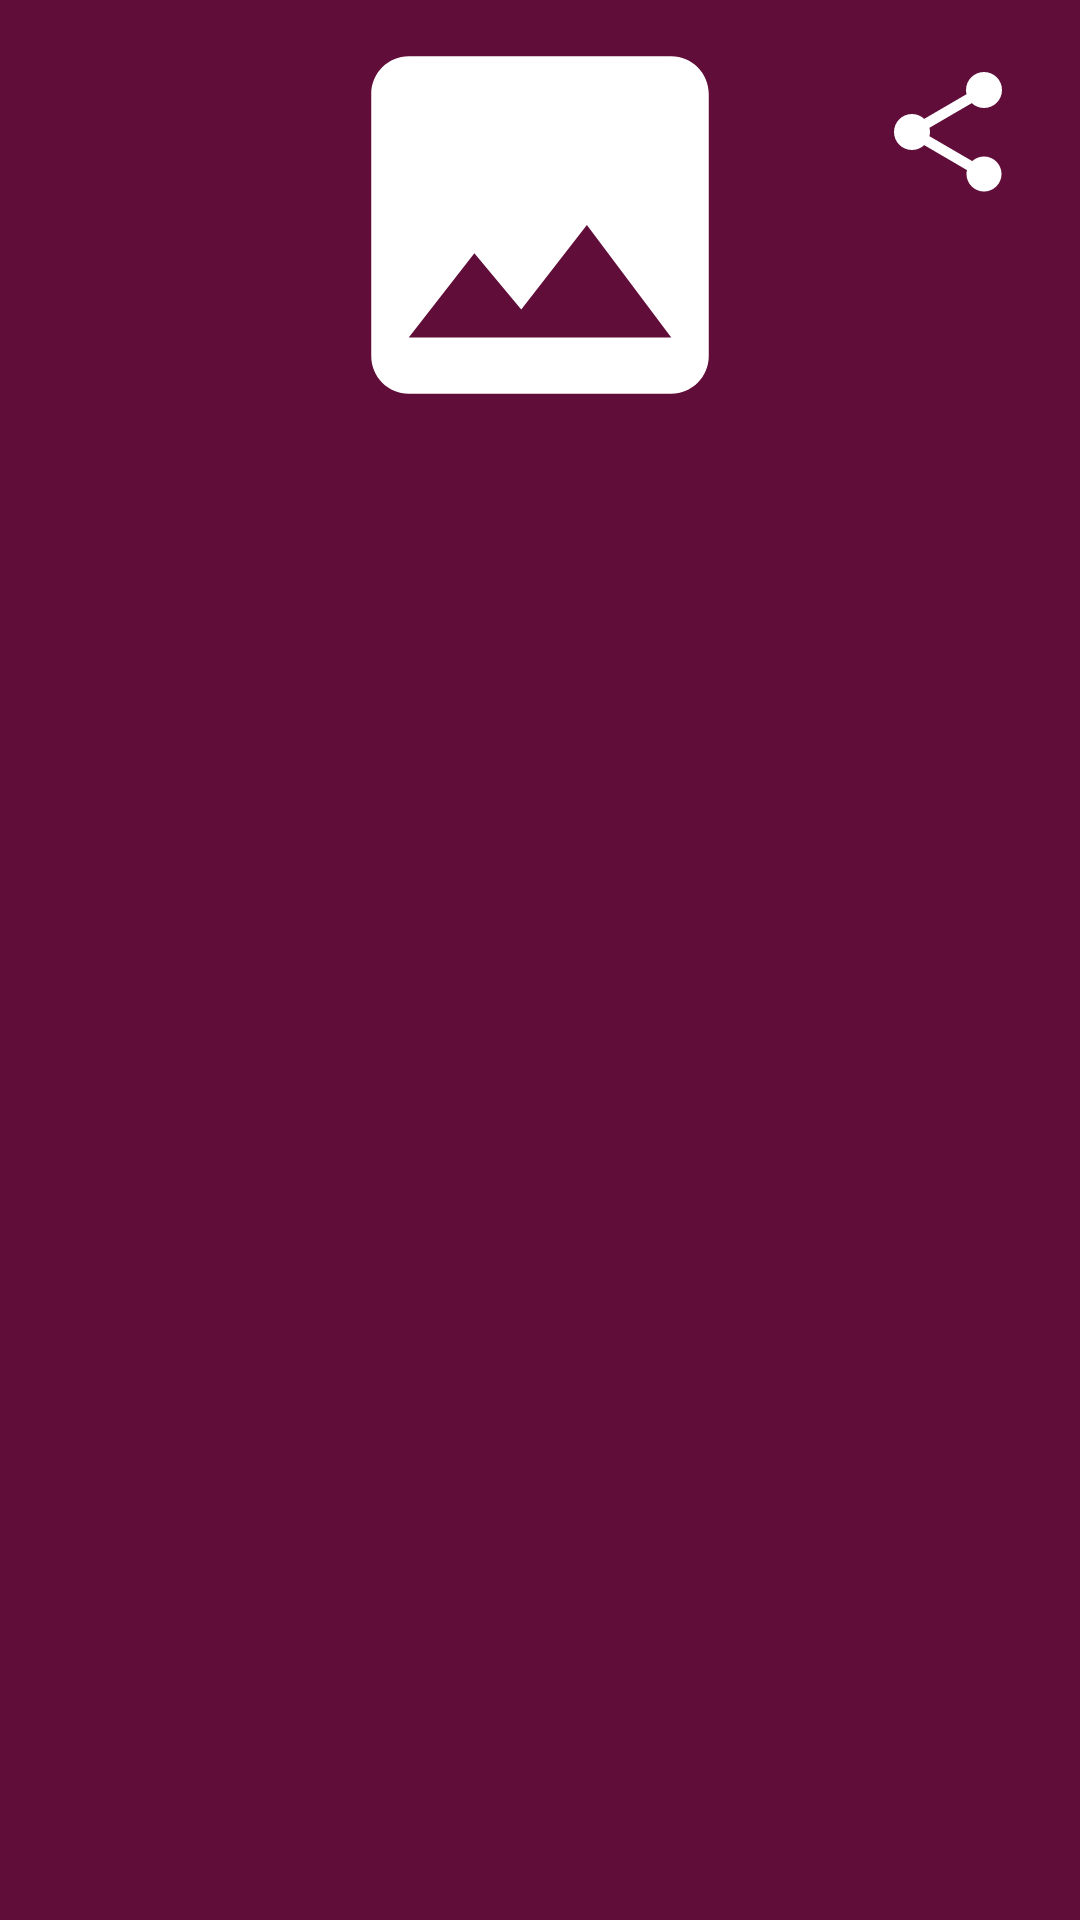

Icon bounding boxes for this 1080x1920 phone screenshot, format (x1, y1, x2, y2):
photo: (371, 56, 709, 394)
share: (894, 72, 1002, 192)
